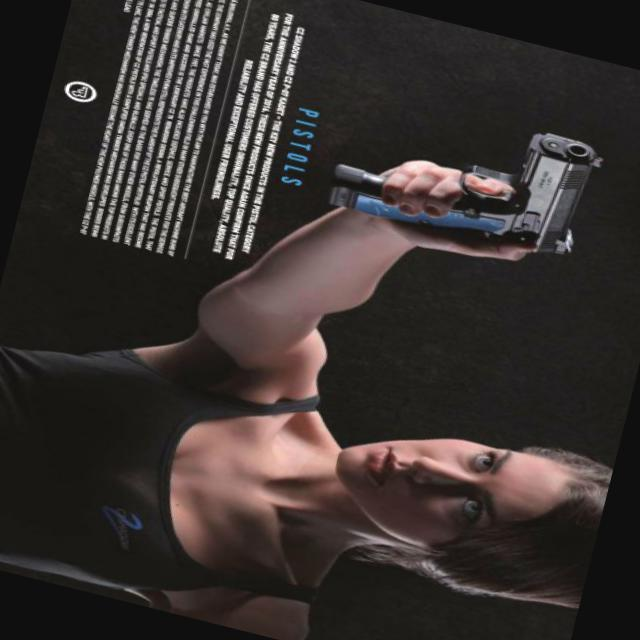handgun: (300, 67, 638, 292)
